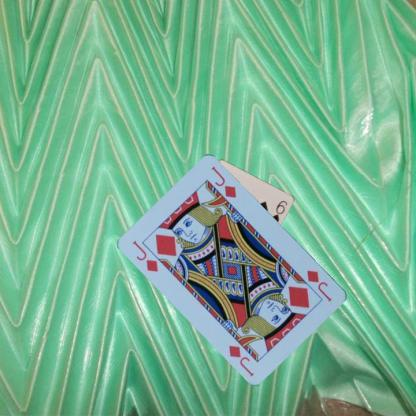Jd: (130, 238, 161, 273), (304, 268, 334, 302)
